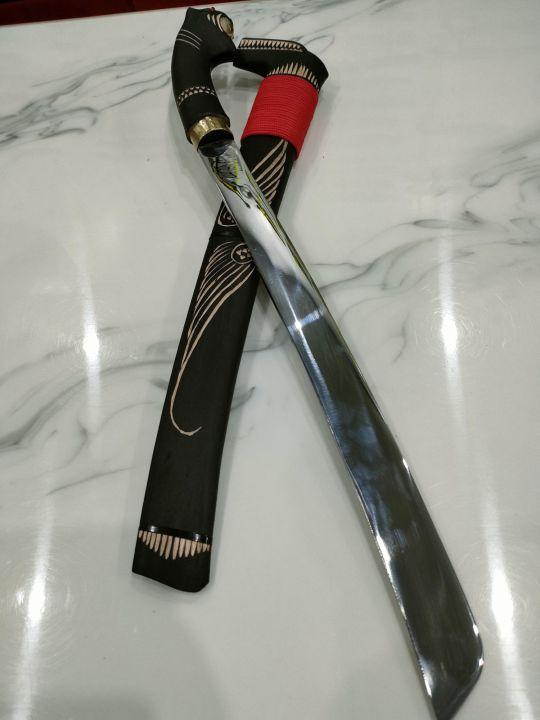facao: (160, 6, 517, 720)
